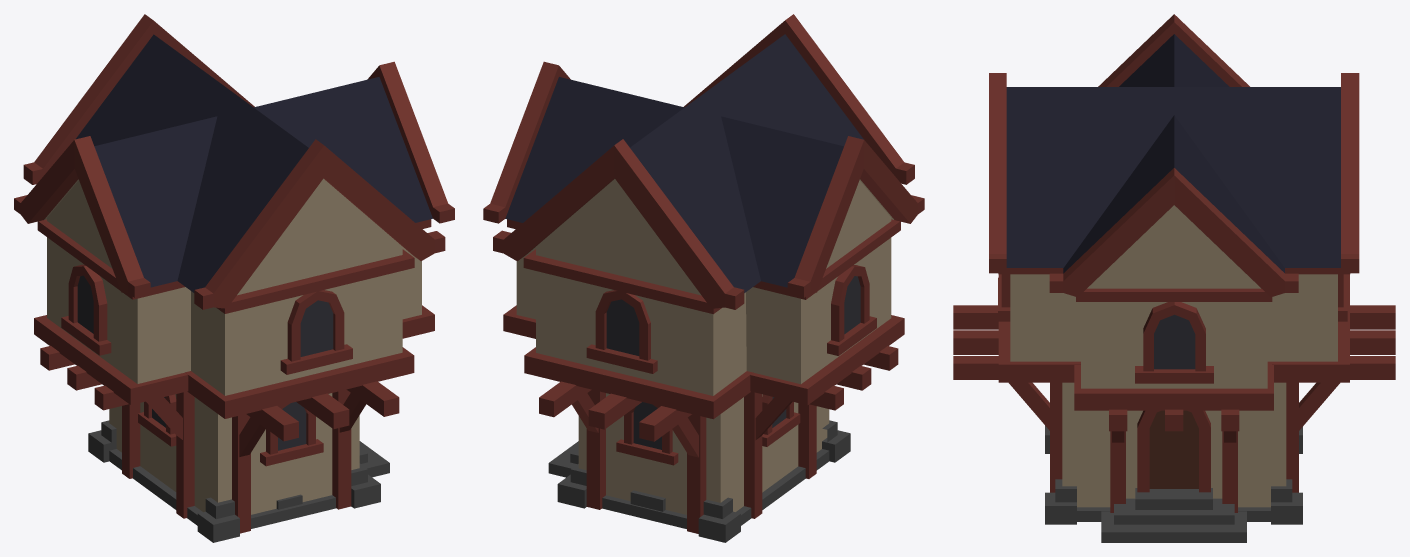
File: temple.glb
3 views of the same model, side by side, from view 1: azimuth 30°, elevation 25°; view 2: azimuth 150°, elevation 25°; view 3: azimuth 270°, elevation 25° (orthographic). The views are drawn at different scales.
Parts seen in each view (by area): view 1: Medieval House; view 2: Medieval House; view 3: Medieval House.
Part boxes in pixels (<box>): Medieval House: <box>14,14,454,542</box>; Medieval House: <box>483,14,924,542</box>; Medieval House: <box>953,14,1395,542</box>.
Bounding box in the file's own units: 1.65 × 1.92 × 1.88.
